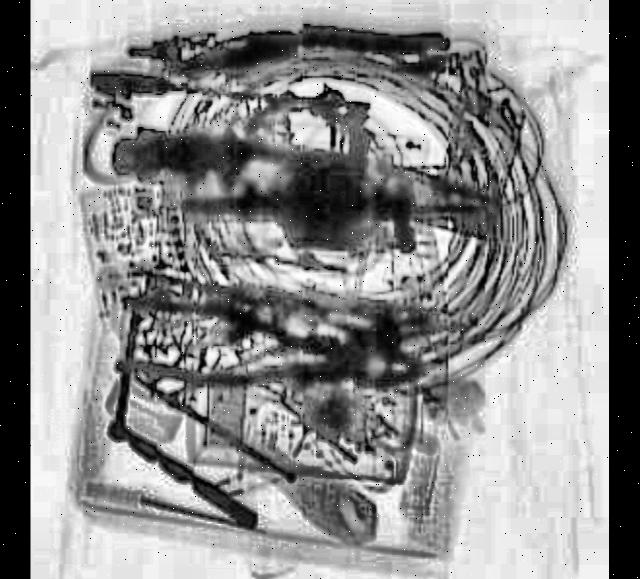Pliers: (117, 295, 430, 412)
